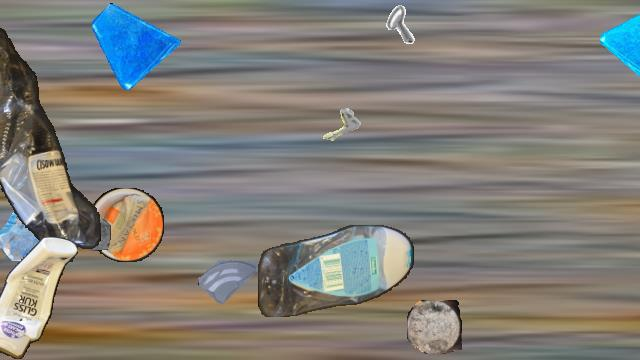glass: (92, 1, 180, 89), (0, 179, 79, 261), (45, 186, 111, 252), (198, 245, 260, 307), (600, 1, 640, 77)
metal: (354, 1, 416, 63), (305, 99, 365, 159)
plastic: (0, 1, 105, 261), (258, 225, 414, 317), (0, 237, 77, 359), (89, 188, 163, 262)
wood: (407, 300, 461, 354)
